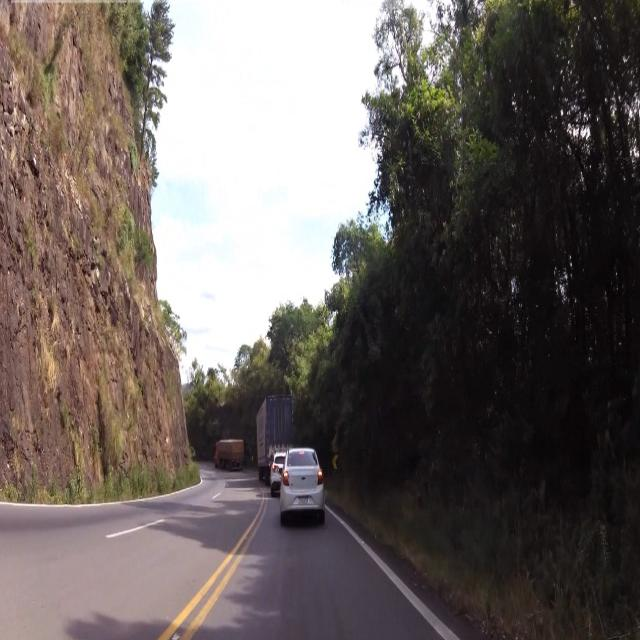Del: (332, 452, 340, 473)
